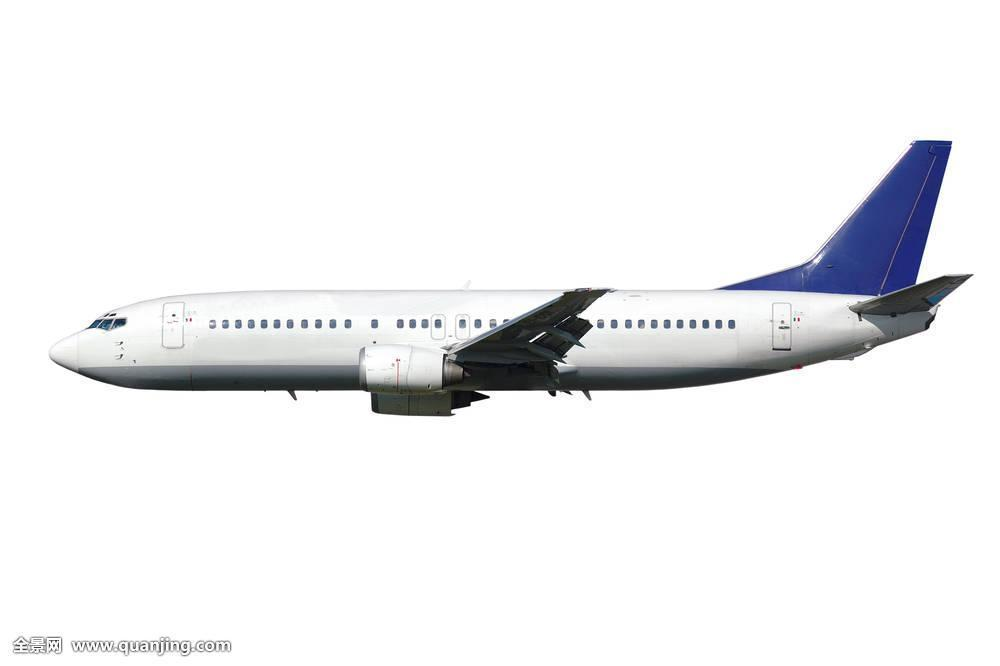airplane: (47, 135, 958, 410)
